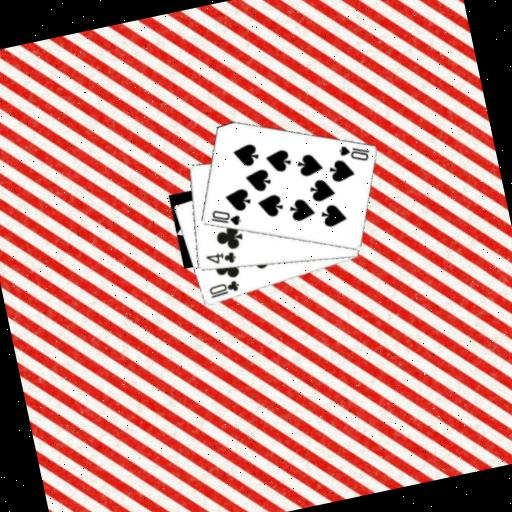10C: (205, 277, 242, 301)
10S: (334, 137, 373, 167), (205, 202, 243, 232)
4C: (202, 246, 238, 269)
